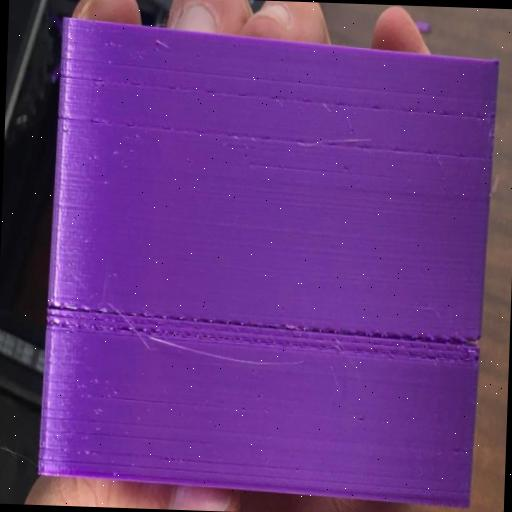cracks: (44, 300, 483, 368)
